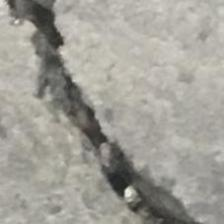Crack: (7, 0, 205, 222)
